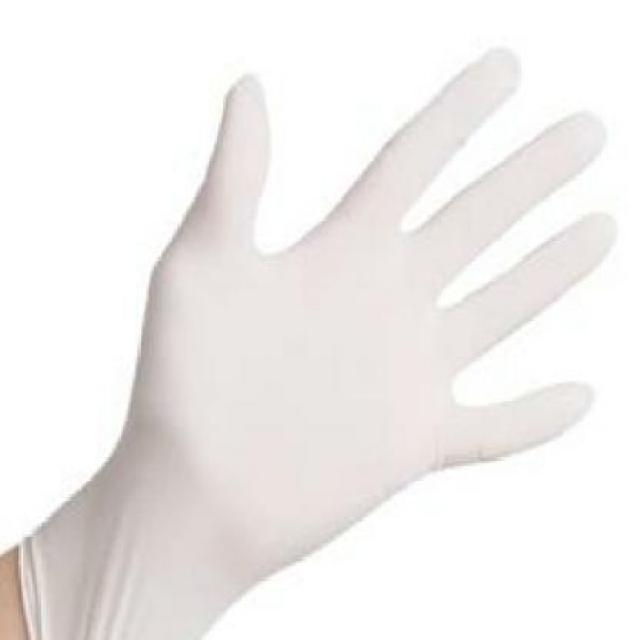Gloves: (44, 36, 614, 604)
